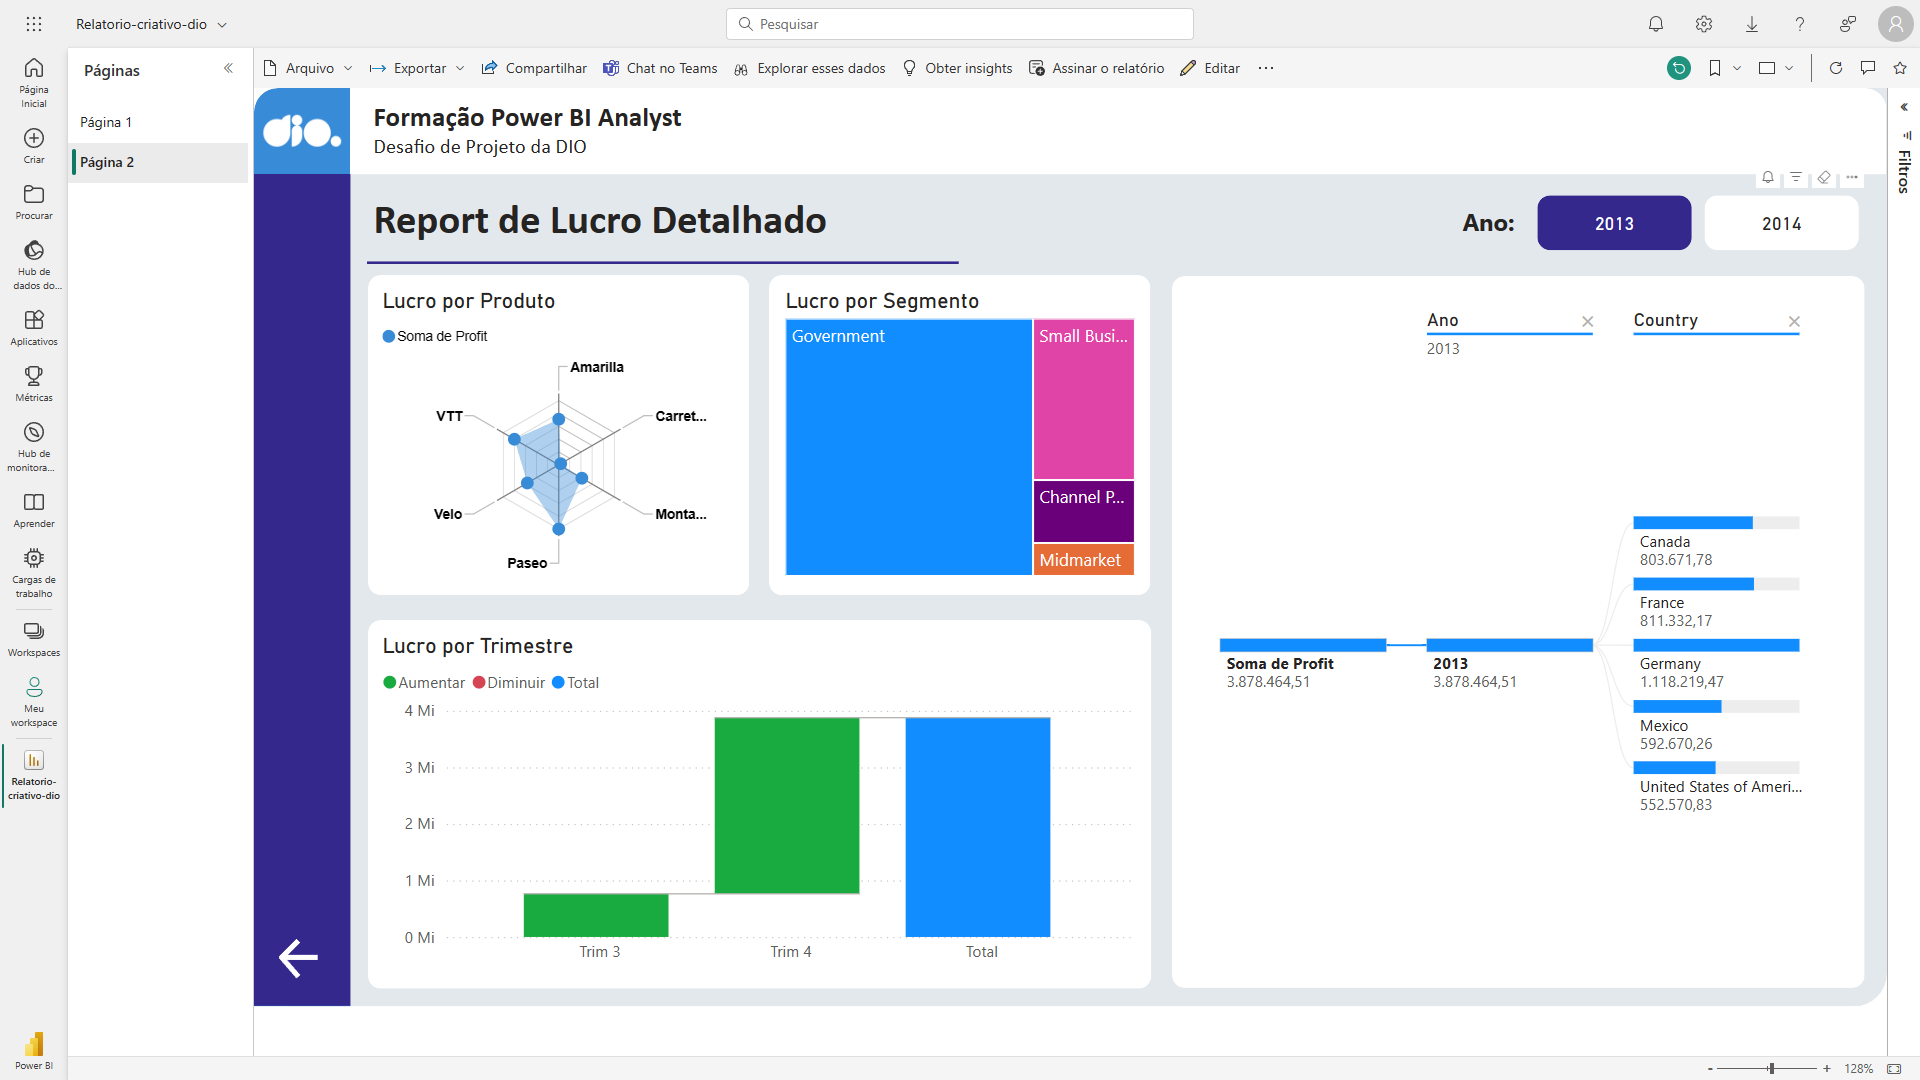

The page's visual inventory and layout, read from the dashboard file:
{"tool":"powerbi","page":{"name":"Página 2","canvas":[1280,720],"ordinal":1},"visuals":[{"type":"group","id":"g1","title":"Base","box":[0,0,1280,720],"z":0},{"type":"shape","title":"background","box":[0,0,1280,720],"z":0,"group":"g1"},{"type":"shape","box":[89,131.3,463.8,12.1],"z":0,"group":"g2"},{"type":"shape","title":"Back-logo","box":[0,0,75.6,720],"z":1000,"group":"g1"},{"type":"group","id":"g2","title":"Title-area","box":[89,78.6,463.8,64.8],"z":1000},{"type":"textbox","title":"Title","box":[89,78.6,379.2,52.7],"z":1000,"group":"g2"},{"type":"image","title":"DIO-logo","box":[2.2,0,71.1,67.8],"z":2000,"group":"g1"},{"type":"actionButton","title":"Botão retornar","box":[15.7,662.1,42.2,40.3],"z":2000},{"type":"shape","title":"left-bar","box":[0,67.8,75.6,652.2],"z":3000,"group":"g1"},{"type":"advancedSlicerVisual","fields":{"Values":["financials.Date.Variation.Hierarquia de datas.Ano"]},"box":[1001,79,262,53],"z":3000},{"type":"textbox","title":"Ano-text","box":[942,87,59,37],"z":3500},{"type":"shape","title":"top-bar","box":[75.6,0,1204.4,67.8],"z":4000,"group":"g1"},{"type":"shape","box":[719.5,147.5,543,558],"z":4000},{"type":"textbox","title":"intro","box":[88.9,4.4,300,57.8],"z":5000,"group":"g1"},{"type":"decompositionTreeVisual","fields":{"Analyze":["Sum(financials.Profit)"],"ExplainBy":["financials.Date.Variation.Hierarquia de datas.Ano","financials.Country"]},"box":[727.5,156.5,526,538],"z":5000},{"type":"shape","box":[89.1,416.8,614,289],"z":6000},{"type":"waterfallChart","title":"Lucro por Trimestre","fields":{"Y":["Sum(financials.Profit)"],"Category":["financials.Date.Variation.Hierarquia de datas.Trimestre"]},"box":[95.5,427.1,599.8,268.3],"z":6500},{"type":"shape","box":[89.1,146.6,299,251],"z":7000},{"type":"RadarChart1446119667547","title":"Lucro por Produto","fields":{"Y":["Sum(financials.Profit)"],"Category":["financials.Product"]},"box":[95.5,156.7,286.5,230.9],"z":7500},{"type":"shape","box":[403.3,146.6,299,251],"z":8000},{"type":"treemap","title":"Lucro por Segmento","fields":{"Values":["Sum(financials.Profit)"],"Group":["financials.Segment"]},"box":[411.1,156.8,283.9,230.7],"z":8500}]}

Visuals, with their boxes on the page's 1280x720 design canvas (x1, y1, x2, y2). These are canvas units, not pixel positions in the 1920x1080 screenshot, which may show the page scaled, cropped or inside an application window:
"Base" group: bbox=(0, 0, 1280, 720)
"background" shape: bbox=(0, 0, 1280, 720)
shape: bbox=(89, 131, 553, 143)
"Back-logo" shape: bbox=(0, 0, 76, 720)
"Title-area" group: bbox=(89, 79, 553, 143)
"Title" textbox: bbox=(89, 79, 468, 131)
"DIO-logo" image: bbox=(2, 0, 73, 68)
"Botão retornar" actionButton: bbox=(16, 662, 58, 702)
"left-bar" shape: bbox=(0, 68, 76, 720)
advancedSlicerVisual - financials.Date.Variation.Hierarquia de datas.Ano: bbox=(1001, 79, 1263, 132)
"Ano-text" textbox: bbox=(942, 87, 1001, 124)
"top-bar" shape: bbox=(76, 0, 1280, 68)
shape: bbox=(720, 148, 1262, 706)
"intro" textbox: bbox=(89, 4, 389, 62)
decompositionTreeVisual - Sum(financials.Profit) x financials.Date.Variation.Hierarquia de datas.Ano: bbox=(728, 156, 1254, 694)
shape: bbox=(89, 417, 703, 706)
"Lucro por Trimestre" waterfallChart: bbox=(96, 427, 695, 695)
shape: bbox=(89, 147, 388, 398)
"Lucro por Produto" RadarChart1446119667547: bbox=(96, 157, 382, 388)
shape: bbox=(403, 147, 702, 398)
"Lucro por Segmento" treemap: bbox=(411, 157, 695, 388)
